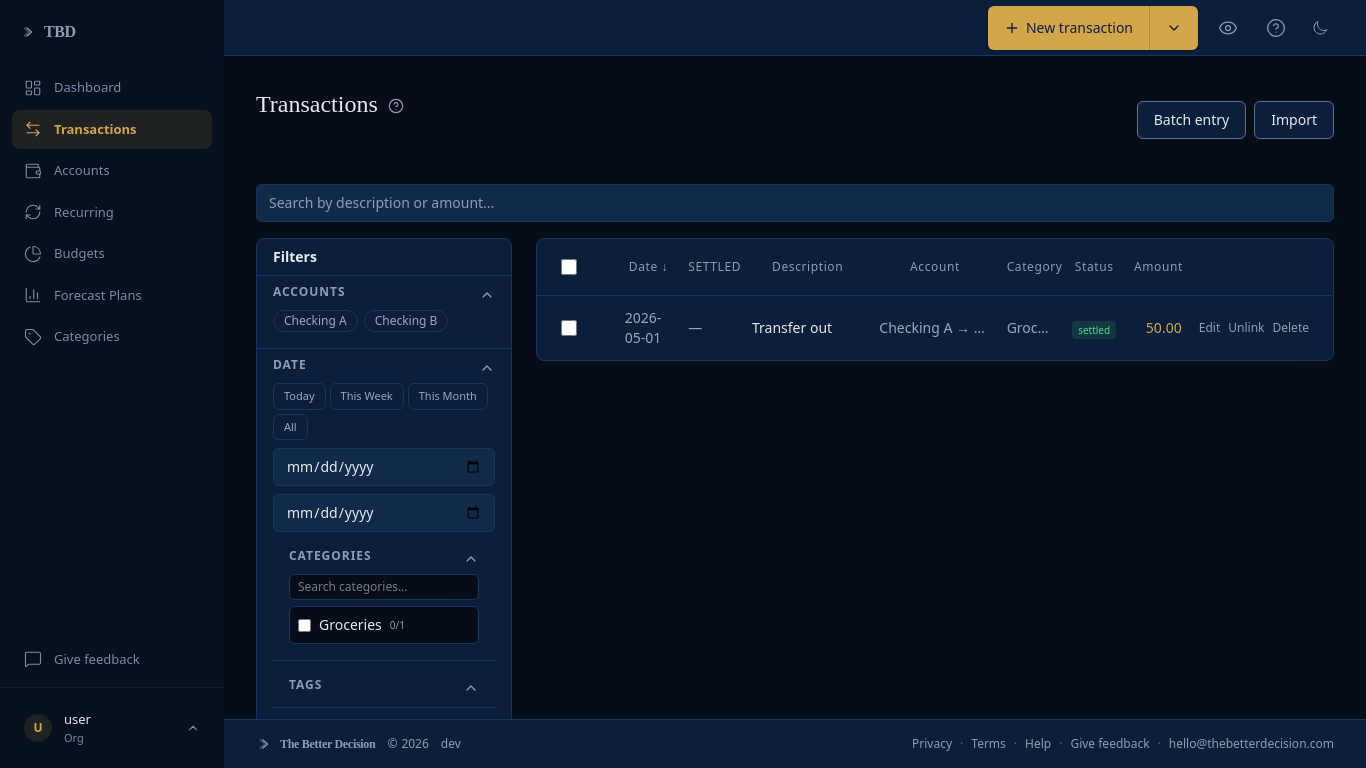
it: TransactionsPage — transfer wiring (Task D7) › Edit visible on linked rows with mirror-amount notice and read-only type
Step 1. Click the button with aria-label "Edit: Transfer out" → (1210, 328), box [1199, 320, 1220, 336]
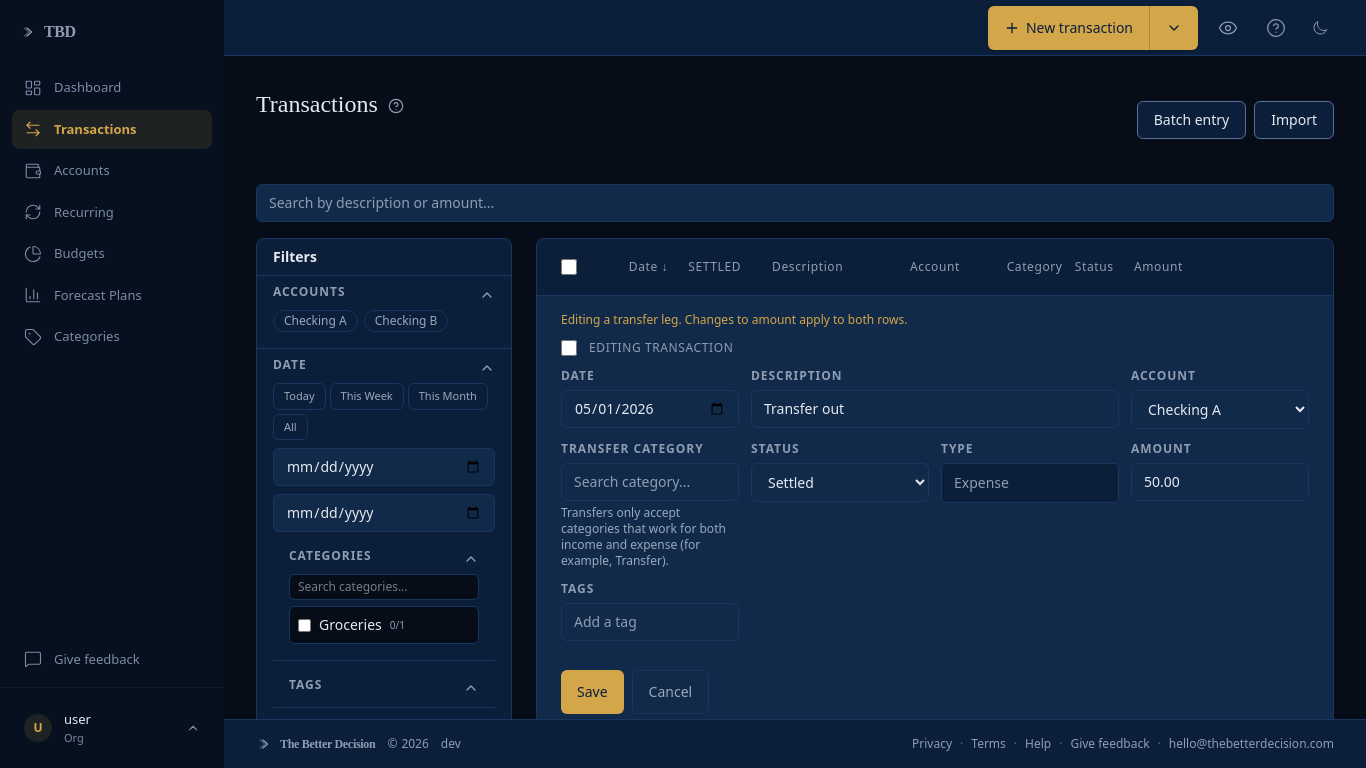
Expected: the text "Changes to amount apply to both rows" is shown, [561, 311, 907, 328]
Expected: the text named "Type" is shown, [941, 463, 1119, 503]
Expected: the dropdown labelled "Transfer category" is shown, [561, 463, 739, 501]
